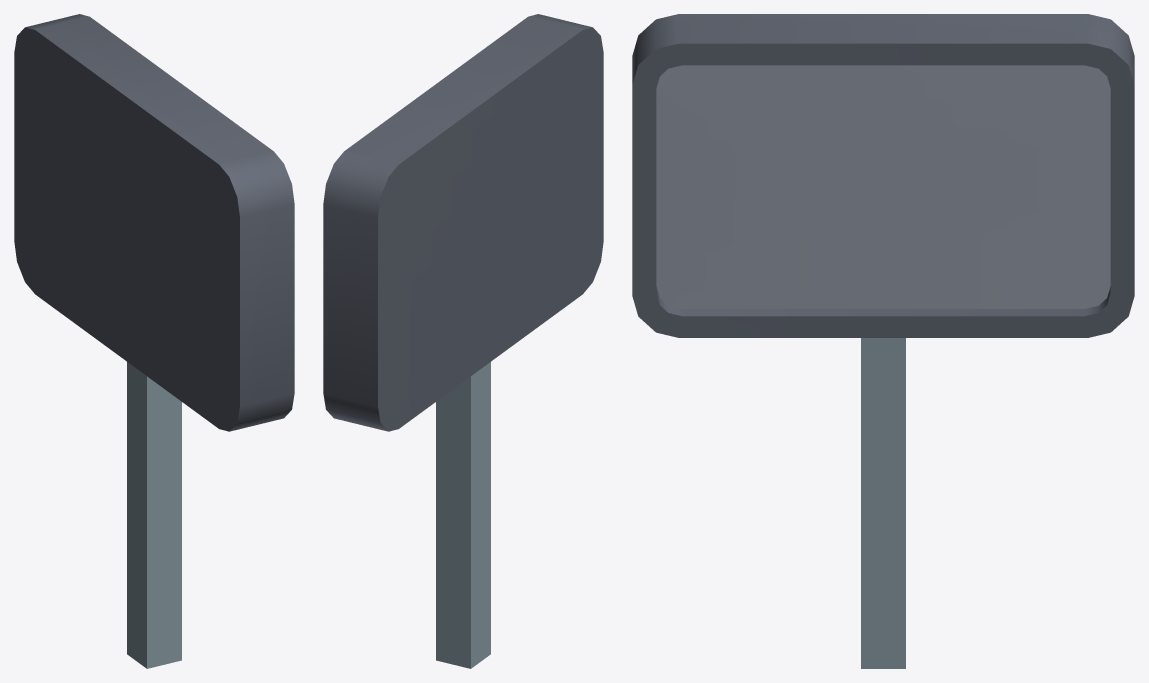
The model's file is M_Space_sign.fbx.
3 renders of one model, left to right at view 1: azimuth 30°, elevation 25°; view 2: azimuth 150°, elevation 25°; view 3: azimuth 270°, elevation 25°, orthographic. The views are drawn at different scales.
Visible parts, largest first — view 1: M_Sign_space; view 2: M_Sign_space; view 3: M_Sign_space.
Boxes of the visible parts, box(x1,y1,x2,y2) form: M_Sign_space: box(14, 14, 294, 668); M_Sign_space: box(323, 14, 603, 668); M_Sign_space: box(632, 14, 1134, 668).
Size of the model in its own units: 28.32 by 281 by 203.
